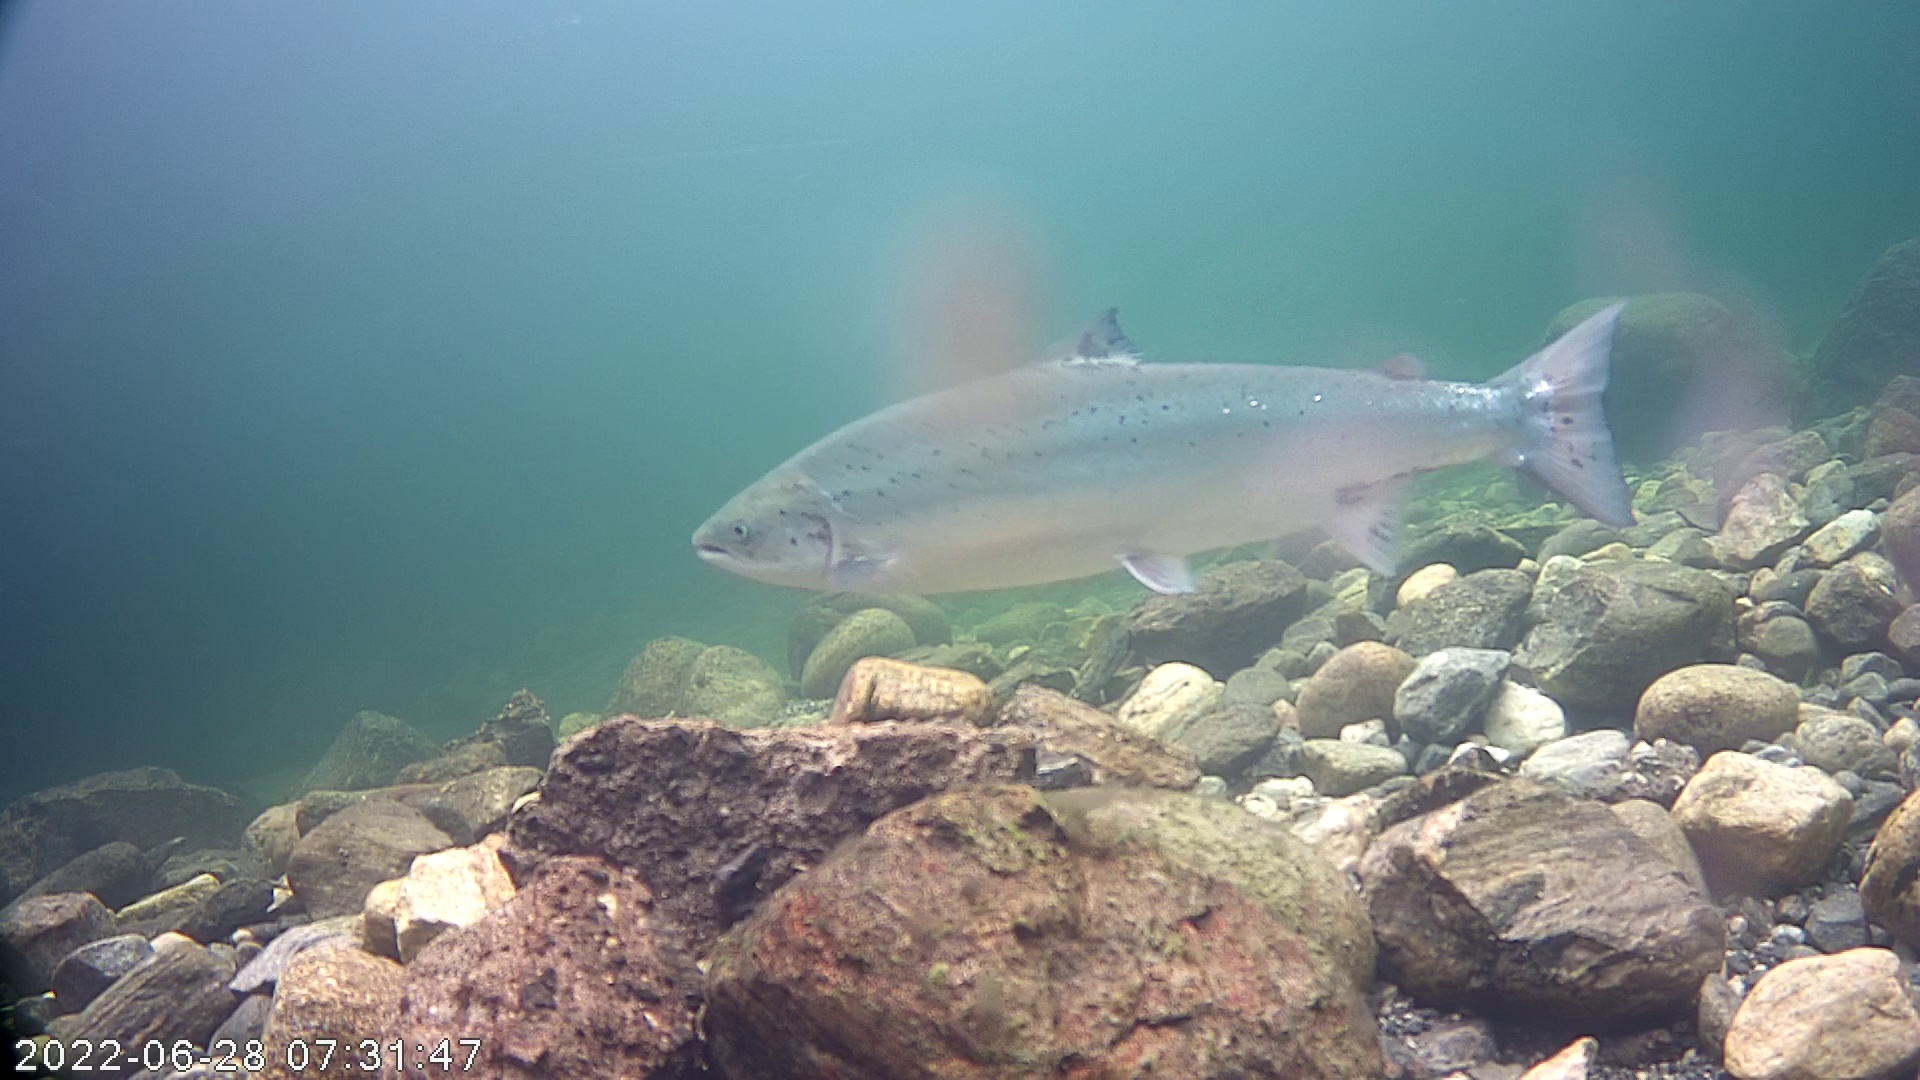salmon: (684, 220, 1662, 654)
